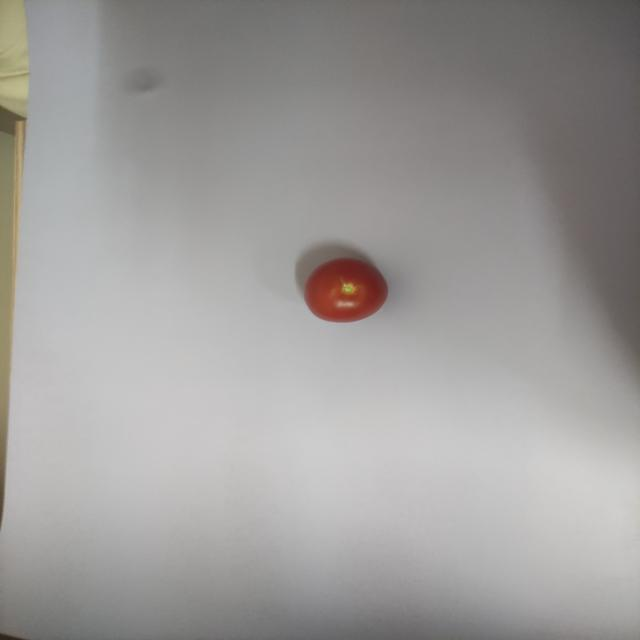kirmizi: (277, 252, 411, 331)
